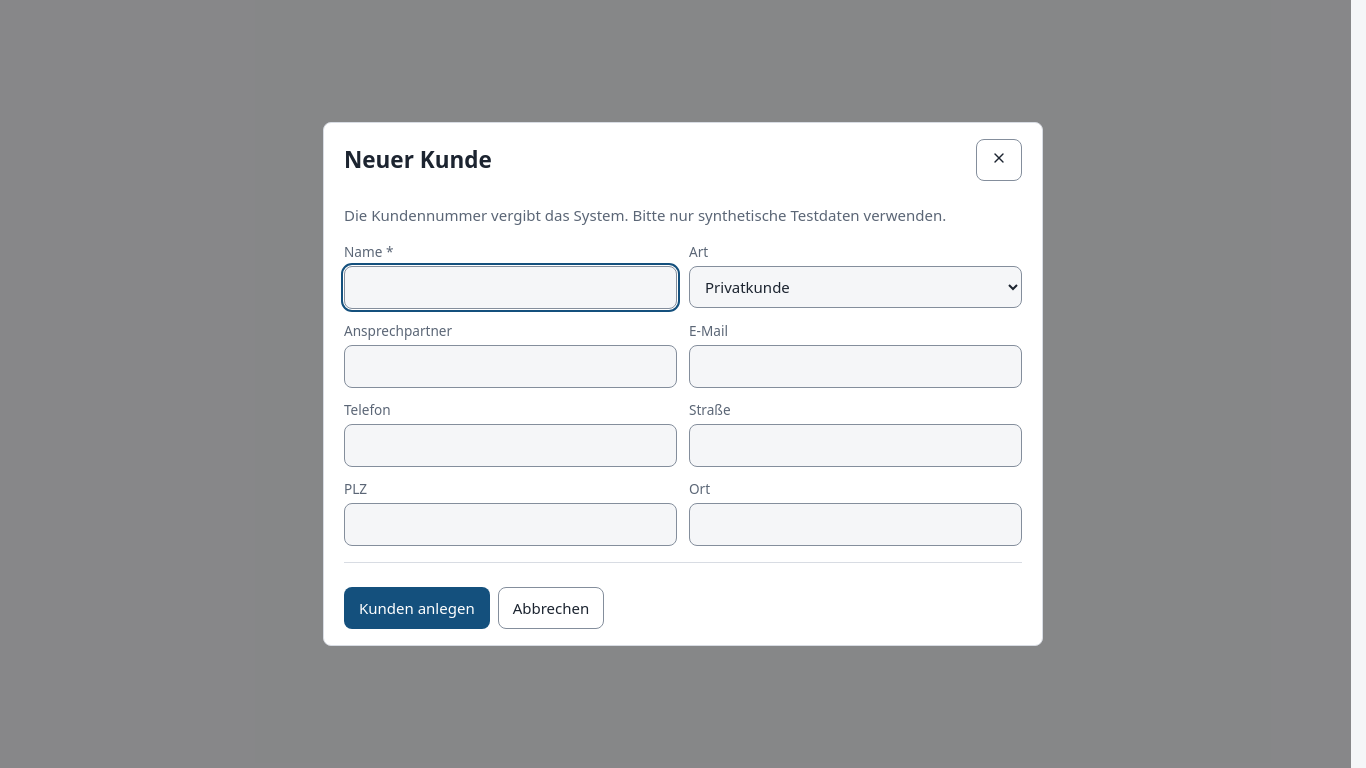
Kundenanlage im Dialog › behaelt die Eingaben auch bei einem allgemeinen Serverfehler
In the field labelled "Name *": point(510, 288) [344,266,677,309], type "Familie Ahrens"
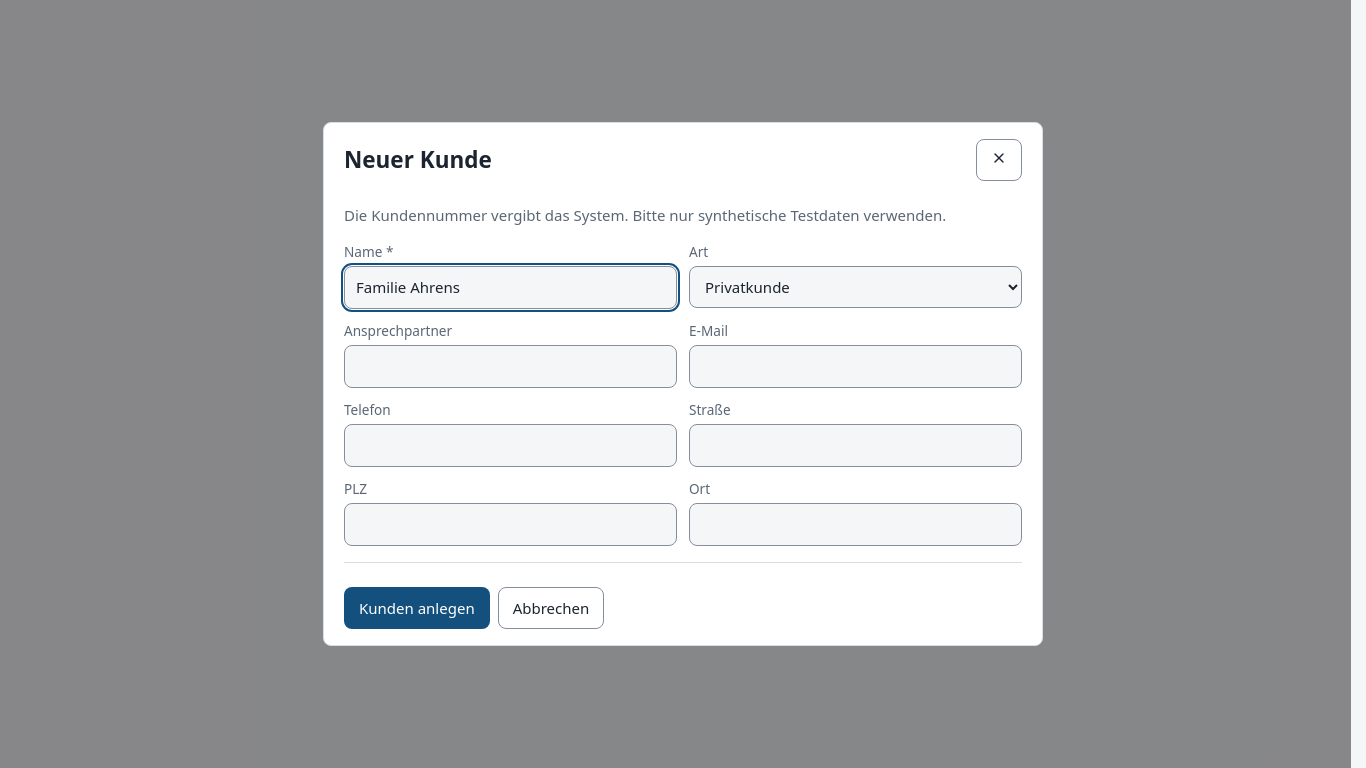
Click the button "Kunden anlegen": point(417, 608) [344,586,490,629]
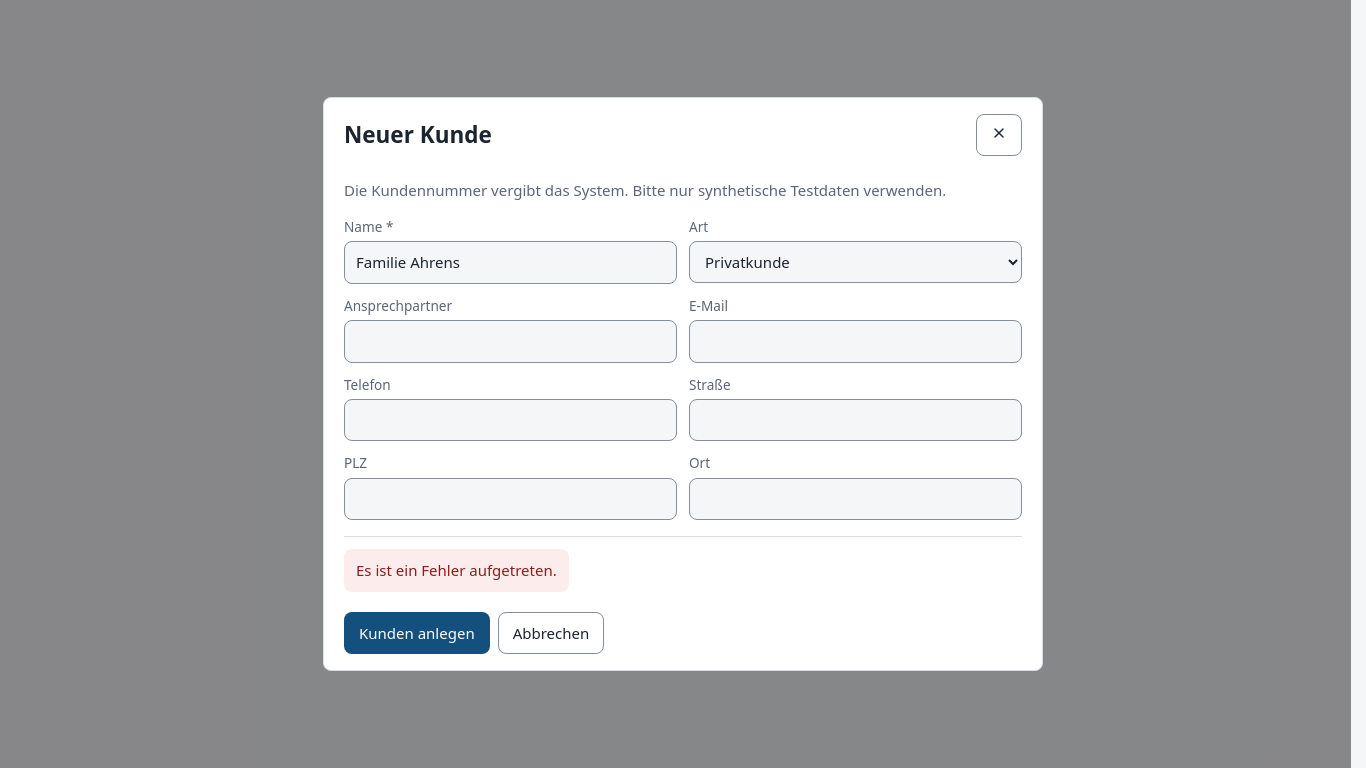
Now the text "Es ist ein Fehler aufgetreten." is shown, box [344,549,569,592]
